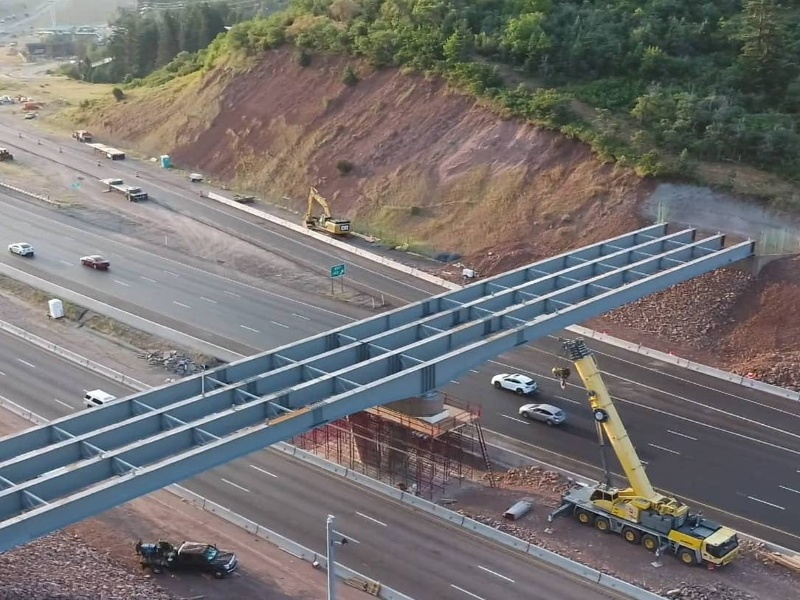crane: (552, 334, 743, 572)
excavator: (301, 187, 355, 240)
vehicle: (134, 536, 238, 580), (518, 402, 567, 429), (489, 371, 539, 397), (79, 255, 111, 274), (7, 241, 35, 260)
